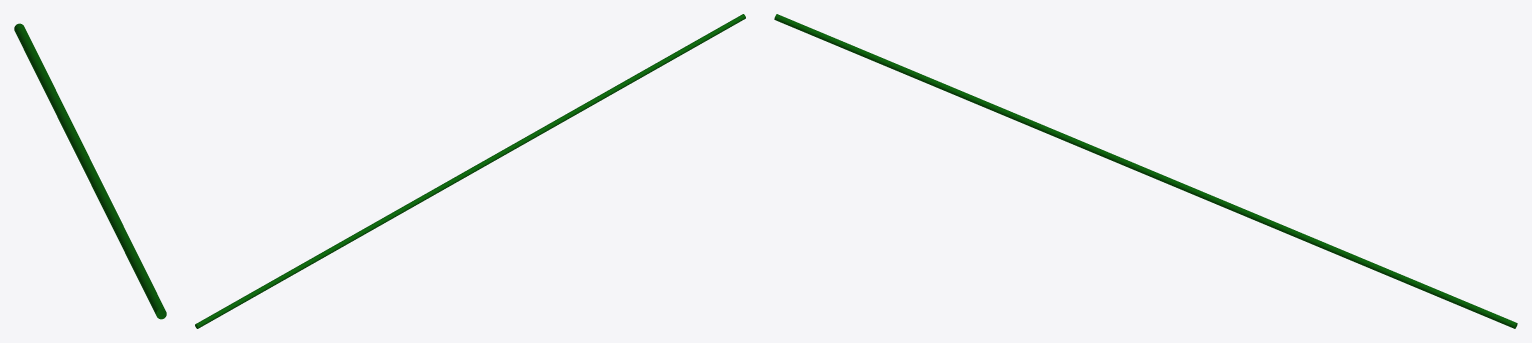
File: Event_105485643_jet_3.fbx
3 renders of one model, left to right at view 1: azimuth 90°, elevation 25°; view 2: azimuth 210°, elevation 25°; view 3: azimuth 330°, elevation 25°, orthographic. The views are drawn at different scales.
Parts seen in each view (by area): view 1: Model; view 2: Model; view 3: Model.
Part boxes in pixels (<box>): Model: <box>14,23,166,319</box>; Model: <box>195,14,745,328</box>; Model: <box>774,14,1517,328</box>.
Bounding box in the file's own units: 5.03 × 1.21 × 0.5685.
